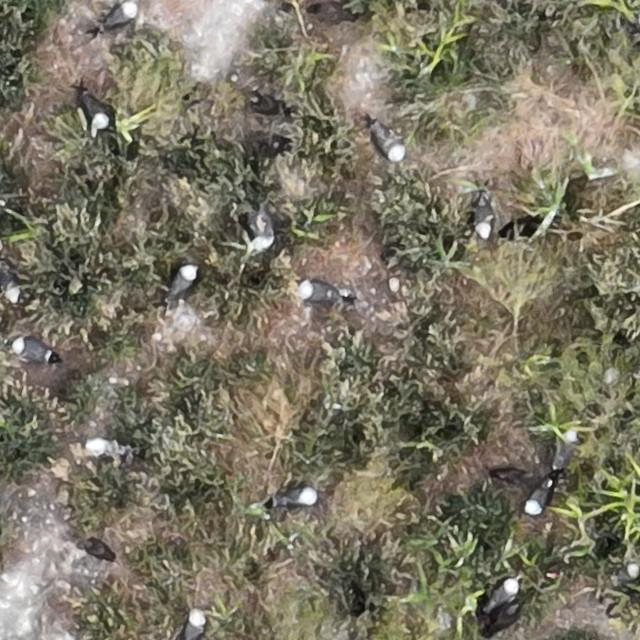umineko: (555, 422, 578, 468), (376, 128, 404, 160), (11, 338, 51, 360), (489, 578, 518, 608), (84, 95, 110, 126), (170, 264, 194, 294), (8, 288, 41, 309), (300, 283, 336, 302), (107, 3, 136, 26), (525, 486, 547, 516), (475, 202, 493, 238), (282, 488, 316, 507), (86, 438, 120, 456), (183, 612, 204, 640)
